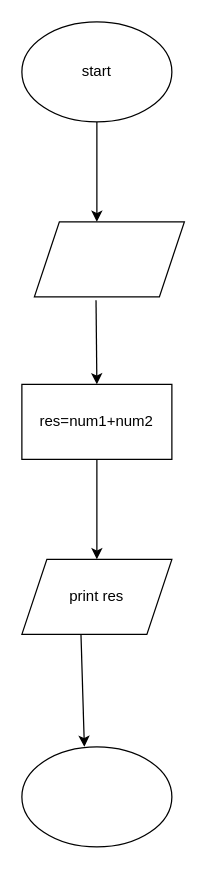
This 206x869 diagram has some shape labels left out. The centre of each missing label's shape, as x and y in pixels:
"read the value num1,num2" goes at point 108,259.
"stop" goes at point 96,796.
